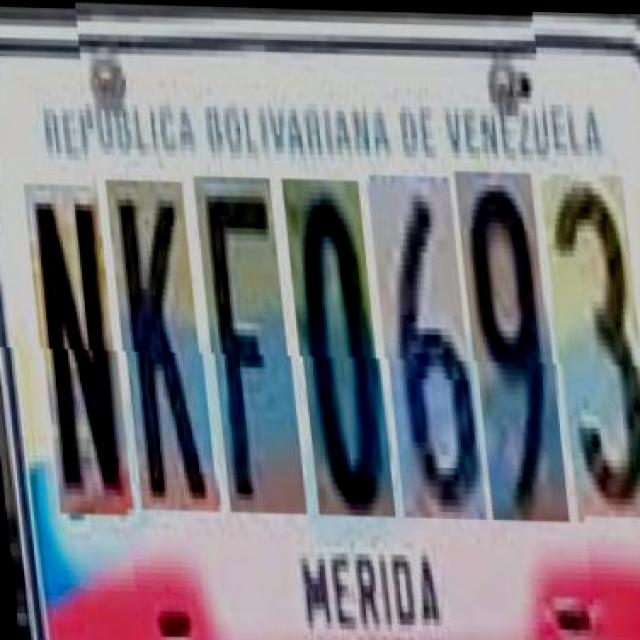3: (539, 176, 640, 520)
6: (365, 172, 476, 516)
9: (454, 168, 559, 519)
f: (192, 175, 296, 512)
k: (105, 180, 206, 510)
n: (21, 178, 122, 508)
o: (281, 178, 385, 515)
